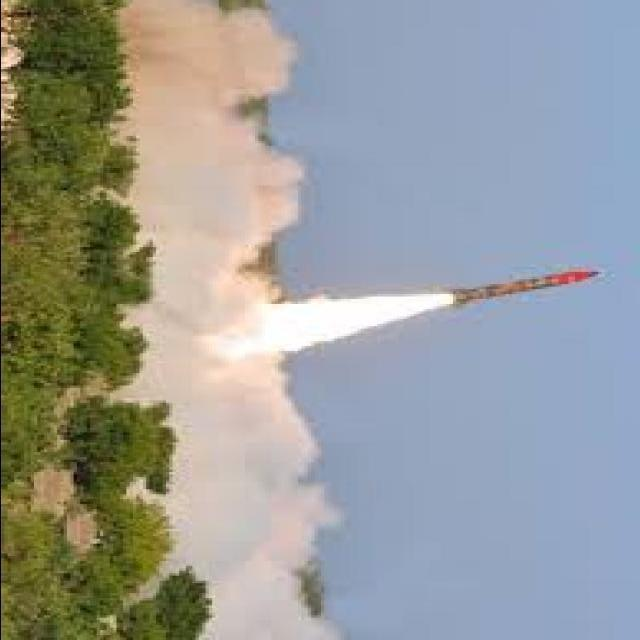missile: (444, 269, 598, 302)
